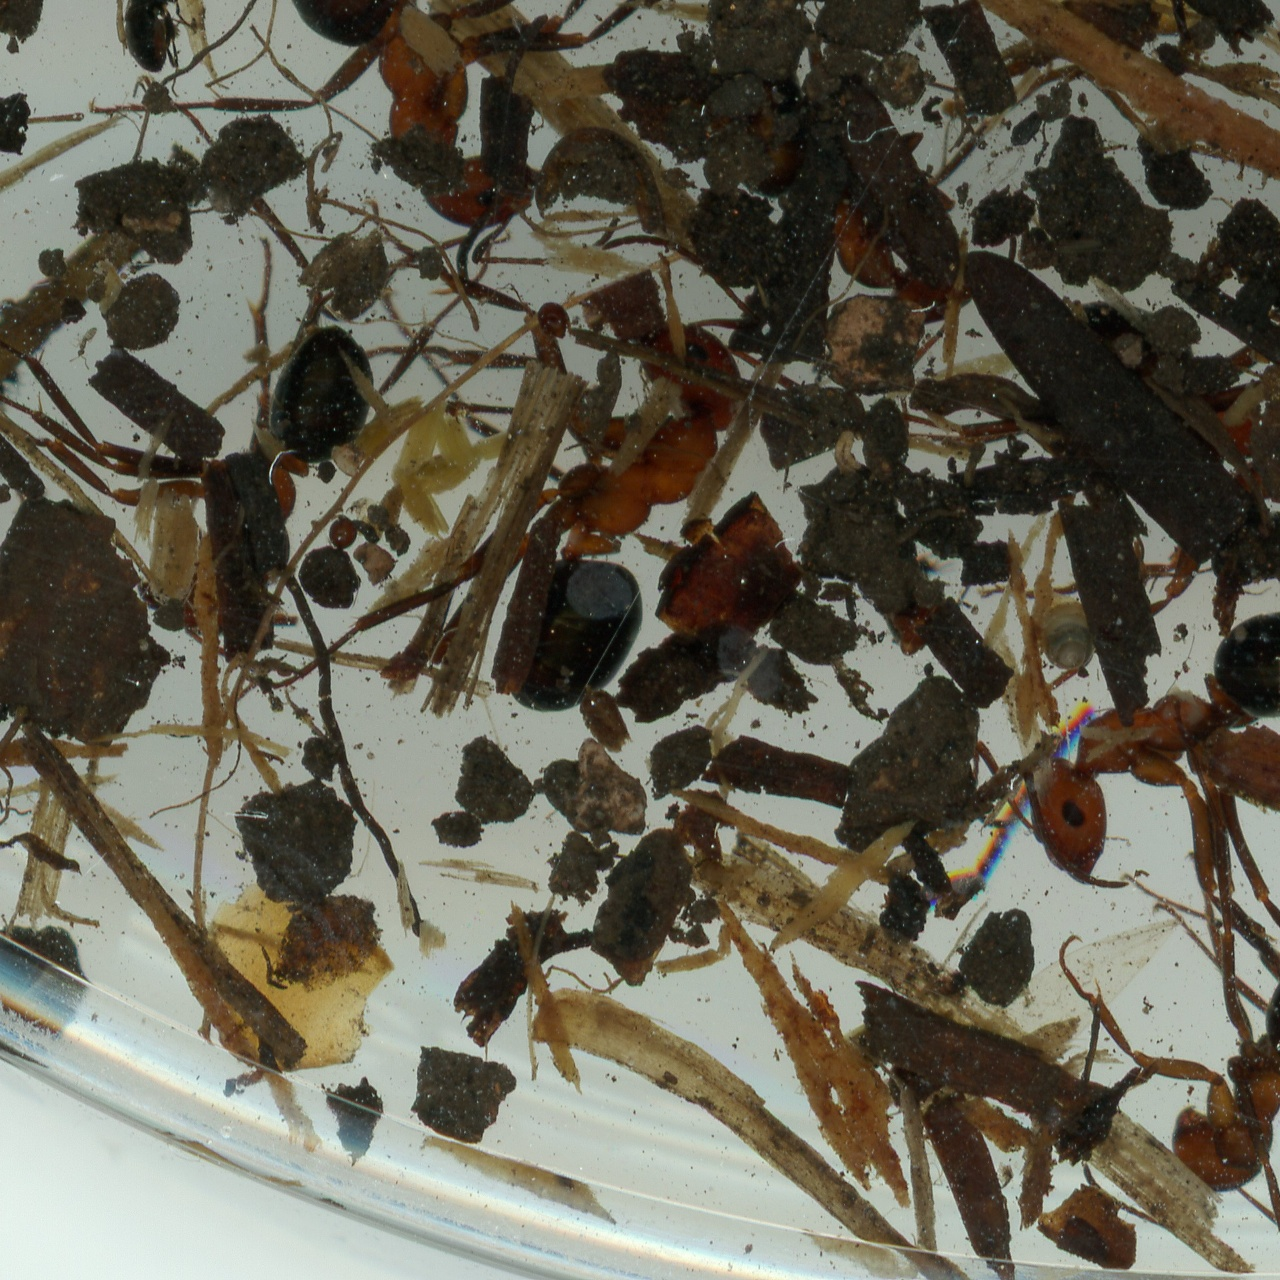arthropod: (962, 330, 1280, 752), (495, 259, 788, 714), (967, 543, 1280, 959), (267, 0, 642, 267), (1045, 864, 1280, 1279), (0, 309, 381, 553), (116, 0, 193, 106), (1029, 583, 1104, 679), (68, 326, 101, 371)
